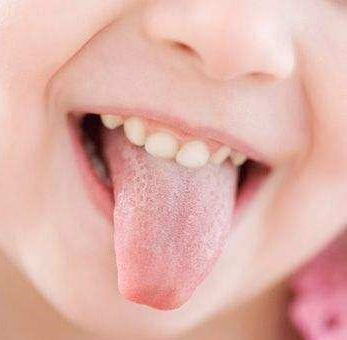baitaishe: (100, 129, 238, 310)
shoushe: (100, 129, 238, 310)
